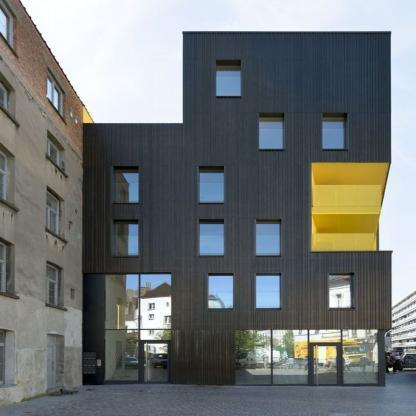Balcony: (313, 185, 381, 205), (313, 234, 375, 251)
Building Outline: (82, 31, 393, 386)
Door: (313, 346, 338, 385), (144, 344, 169, 382)
Facade: (82, 31, 393, 386)
Floor Slab: (83, 258, 390, 266), (83, 205, 380, 213)
Glass Wall: (106, 275, 139, 381), (140, 275, 172, 340), (343, 330, 379, 384), (235, 330, 271, 384), (272, 330, 308, 384)
Window: (312, 163, 392, 251), (114, 222, 139, 255), (199, 222, 224, 255), (208, 276, 233, 309), (329, 274, 353, 308), (115, 169, 139, 203), (260, 116, 284, 150), (322, 116, 345, 150), (200, 169, 223, 203), (217, 63, 240, 97), (257, 222, 280, 255), (257, 275, 280, 308), (309, 330, 341, 342)
